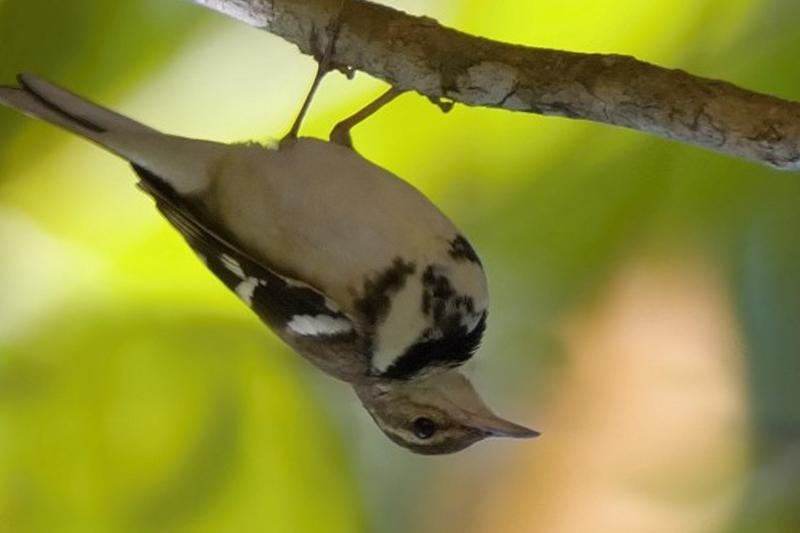wagtail: (105, 72, 508, 466)
